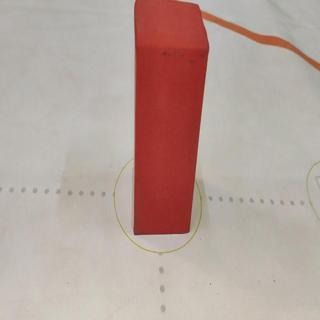redbox: (133, 0, 209, 234)
